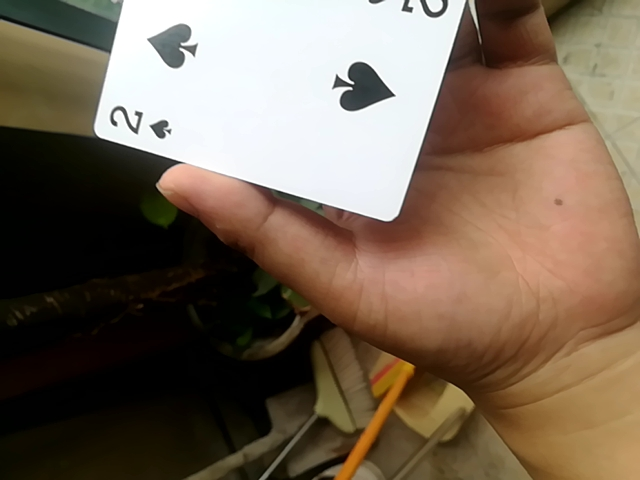ht 2: (91, 1, 462, 229)
